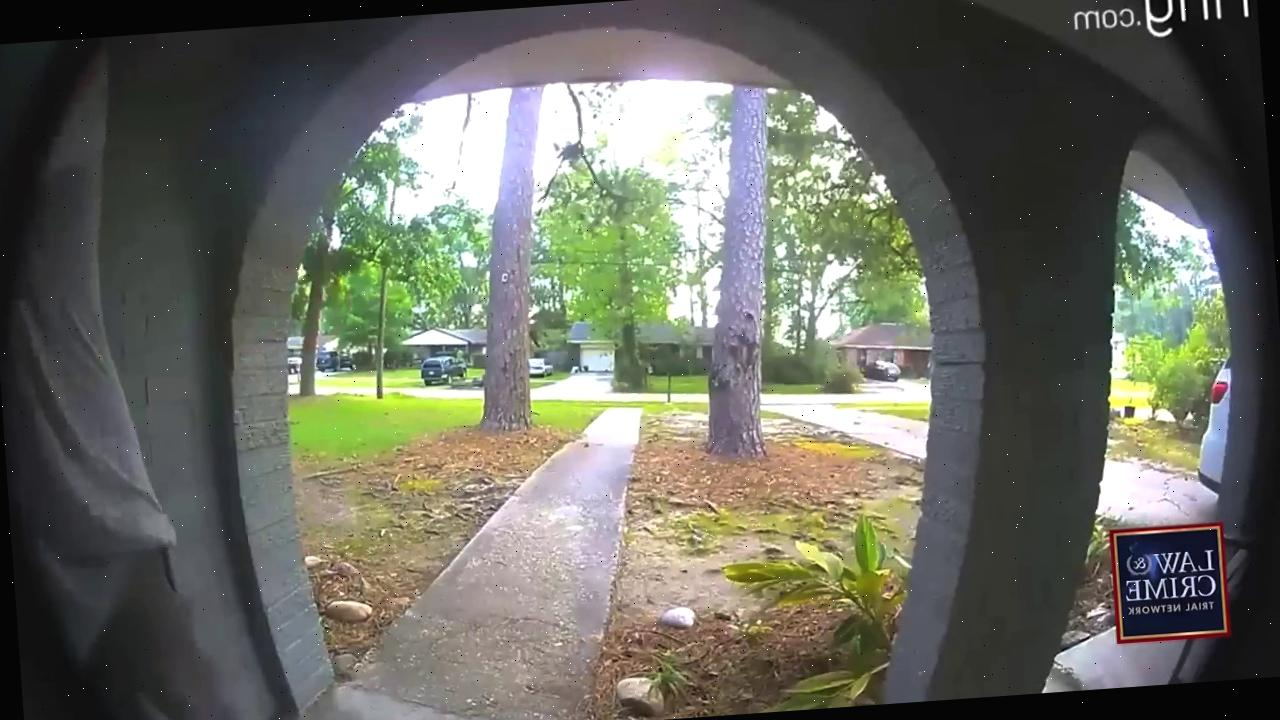suspicion: (0, 30, 246, 720)
